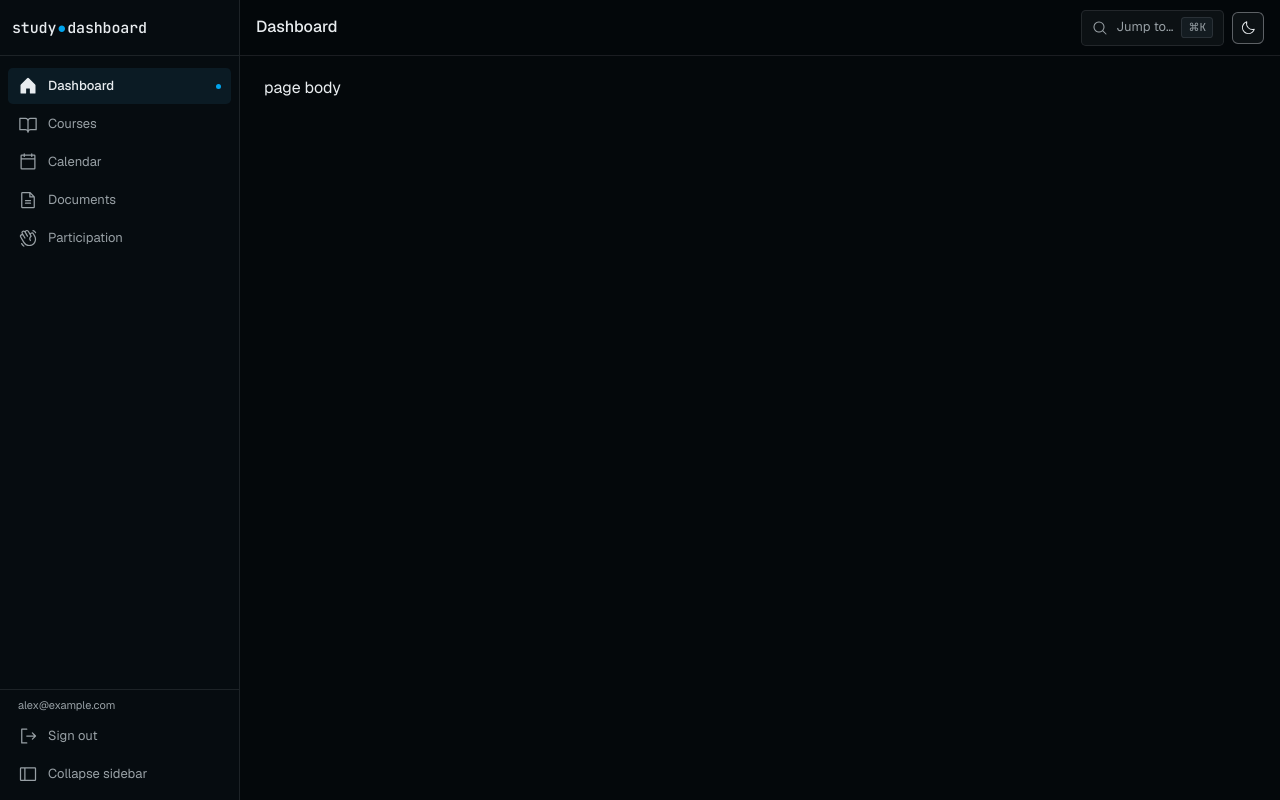
Test: AppShell › reaches natural-language quick-add from the palette — ⌘K from anywhere (§6)
The image size is (1280, 800).
Type keys "{Meta>}k{/Meta}"
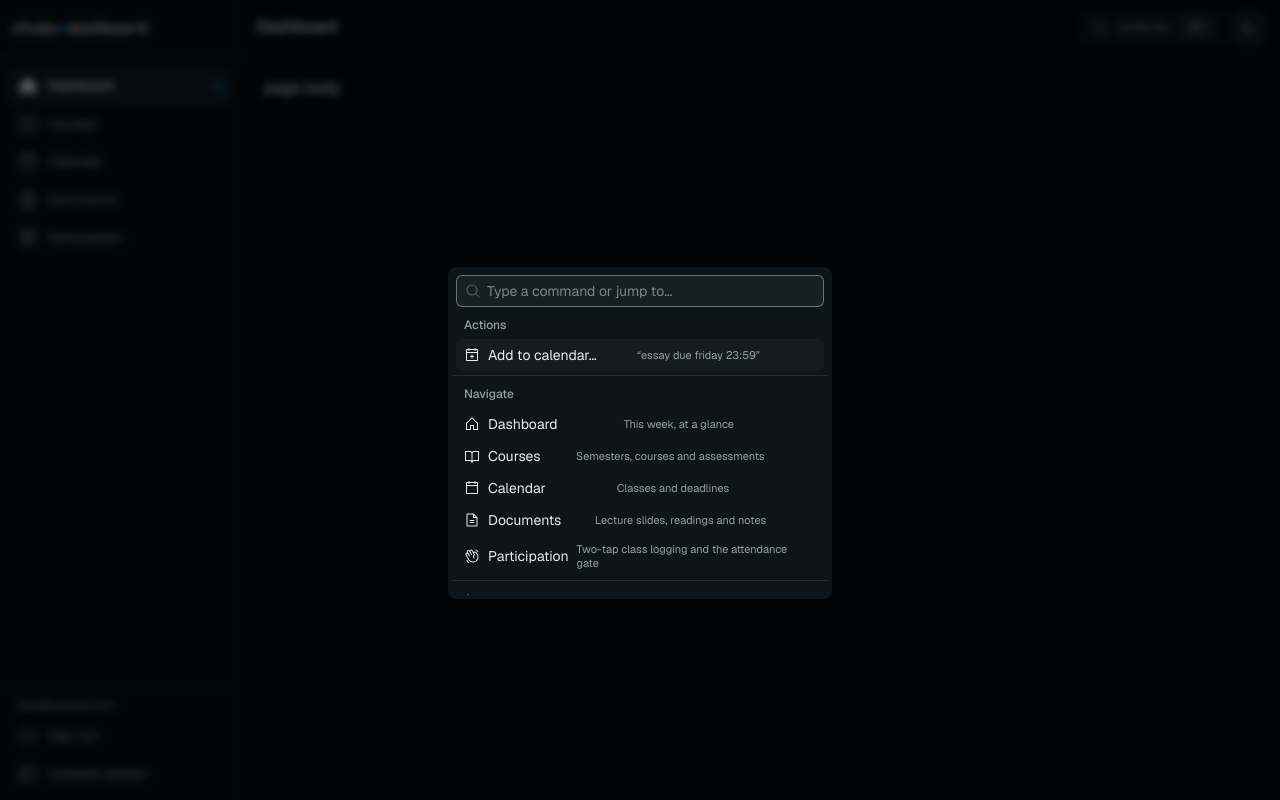
Click the text "Add to calendar…" at {"x": 542, "y": 355}, box 488,345 -> 597,365
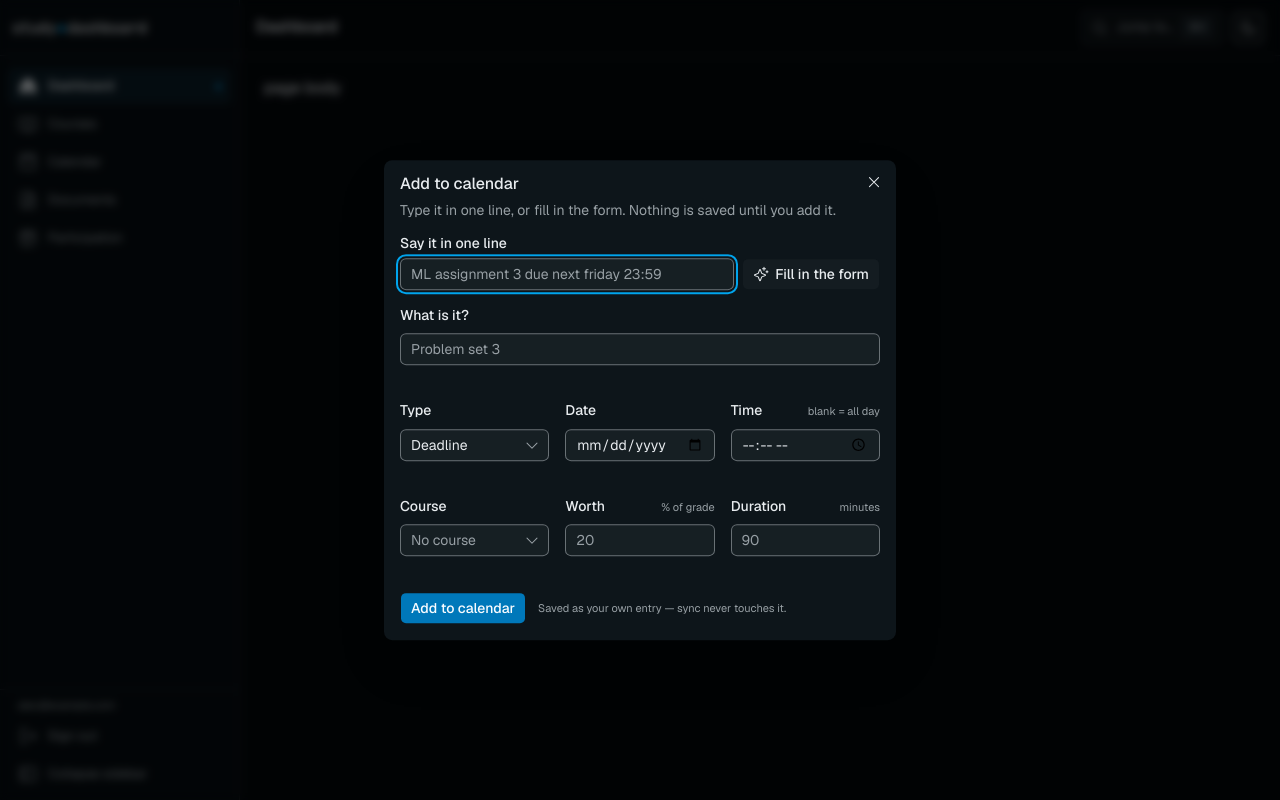
Expected: the dialog "Add to calendar" is shown, 384,160 -> 896,640
Expected: the field labelled "Say it in one line" is shown, 400,258 -> 734,290
Expected: the button "Add to calendar" is shown, 400,592 -> 526,624
